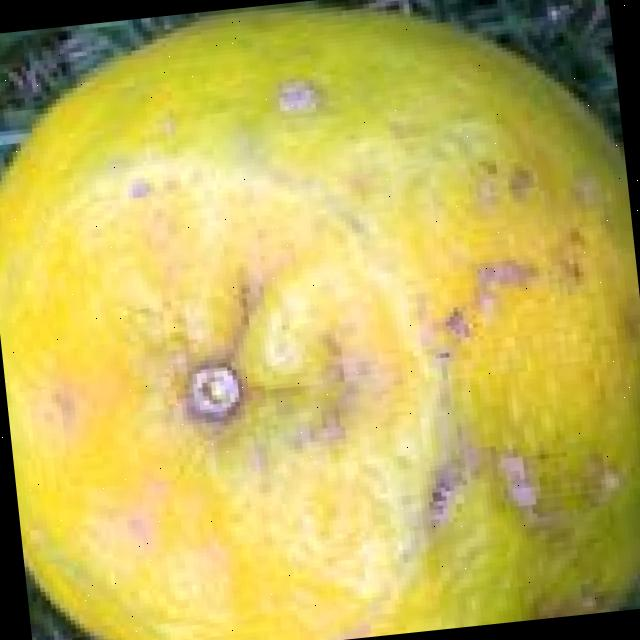Bad_Orange-0-1 day: (0, 4, 640, 640)
